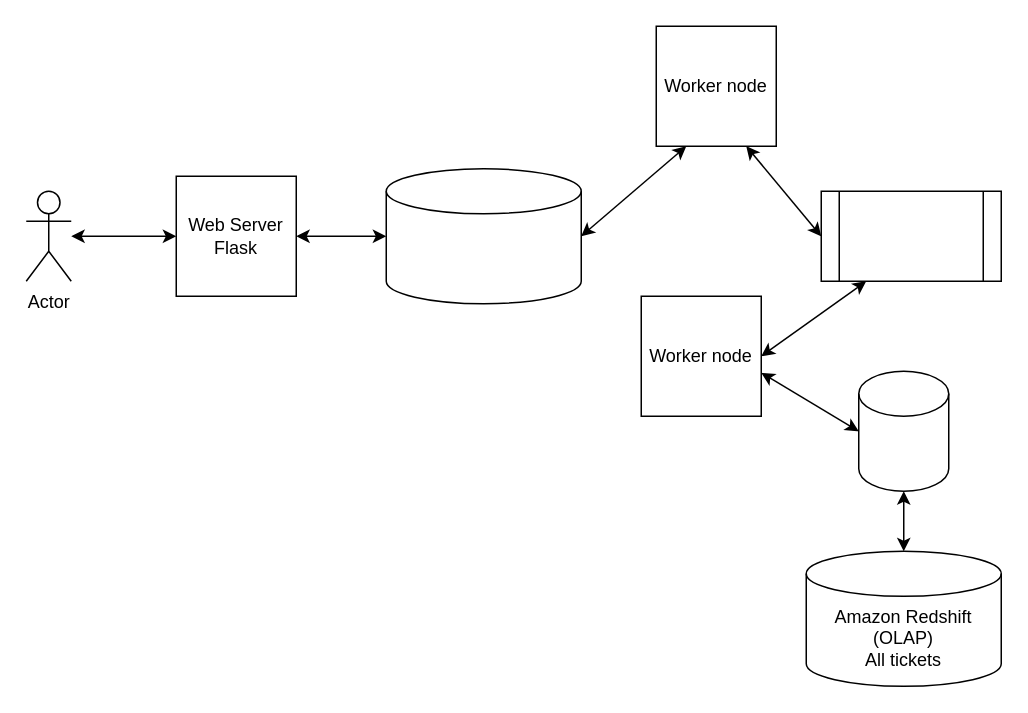
The diagram is 1028 pixels wide and 713 high, and some of its shapes have lost their labels. Here are the shapes that lost their labels. From the top down, the centre of each, then its label:
At pixel 483 235: "Elasticsearch".
At pixel 910 235: "Message queue".
At pixel 903 430: "S3 bucket".
